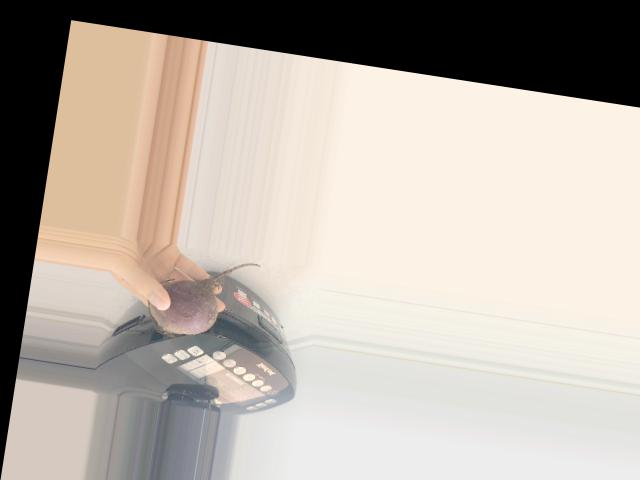beet: (144, 248, 261, 347)
